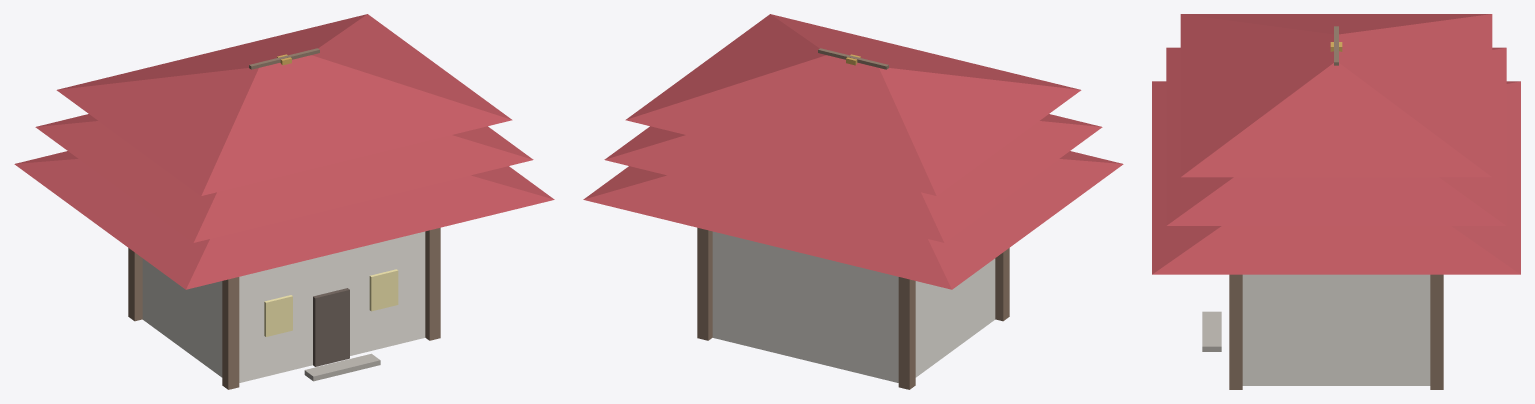
File: office.glb
The picture shows the model from 3 angles, left to right: view 1: azimuth 30°, elevation 25°; view 2: azimuth 150°, elevation 25°; view 3: azimuth 270°, elevation 25°; orthographic projection. The views are drawn at different scales.
Bounding box in the file's own units: 9.55 × 6.68 × 7.7.
